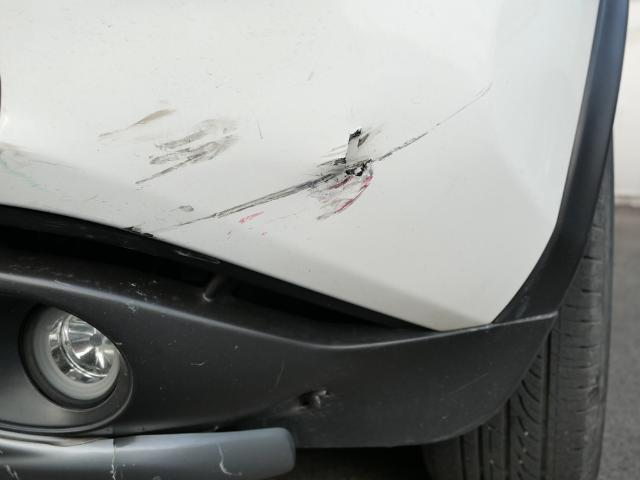crack: (112, 438, 118, 480)
scratch: (97, 80, 496, 243)
